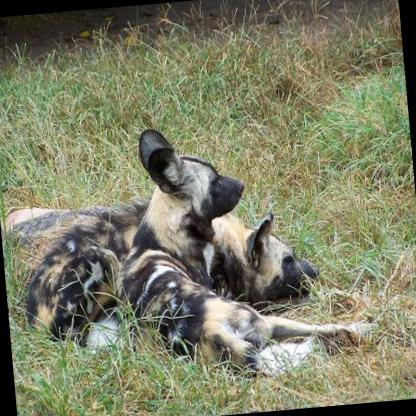African_hunting_dog: (101, 110, 382, 391), (17, 182, 322, 356)
